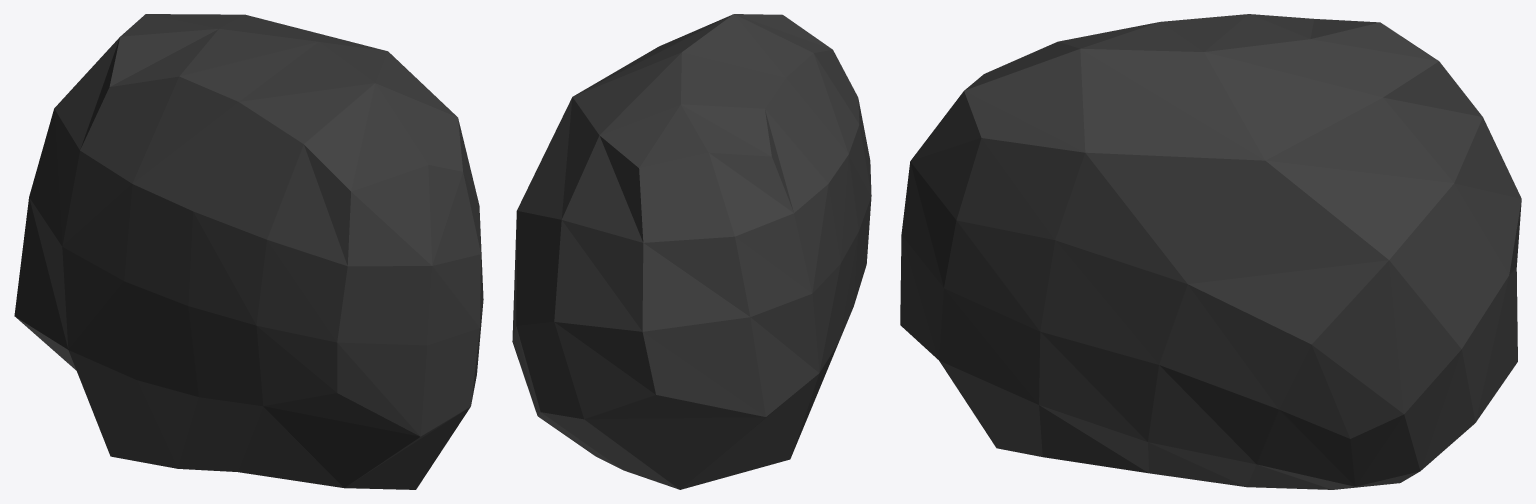
File: RFL_carpal1.glb
3 renders of one model, left to right at view 1: azimuth 30°, elevation 25°; view 2: azimuth 150°, elevation 25°; view 3: azimuth 270°, elevation 25°, orthographic. The views are drawn at different scales.
Parts seen in each view (by area): view 1: RFL_carpal1; view 2: RFL_carpal1; view 3: RFL_carpal1.
Boxes of the visible parts, x1,y1,x2,y2 form: RFL_carpal1: (14,14,483,489); RFL_carpal1: (512,14,871,489); RFL_carpal1: (900,14,1521,489).
Bounding box in the file's own units: 3.11 × 3.7 × 4.68.
1 material, 1 textured.
